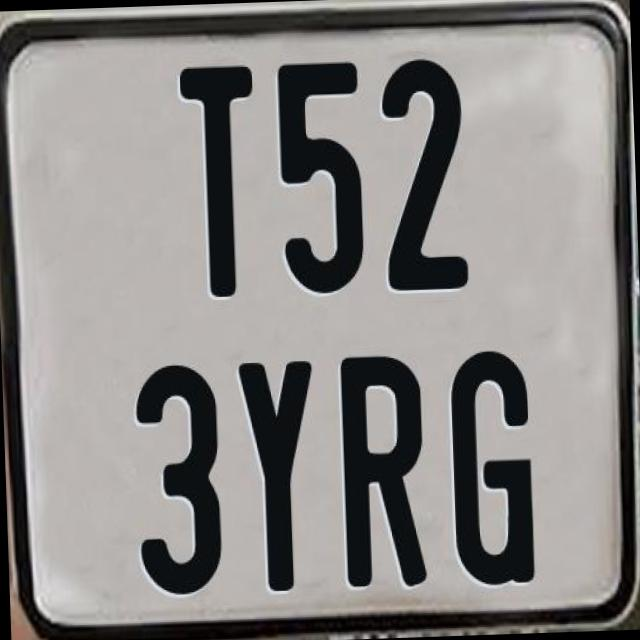2: (380, 54, 471, 290)
3: (133, 359, 224, 600)
5: (276, 58, 370, 294)
G: (449, 345, 536, 581)
R: (337, 355, 431, 590)
T: (179, 62, 259, 300)
Y: (235, 357, 322, 595)
